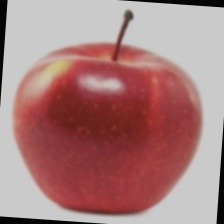apple: (37, 22, 196, 206)
